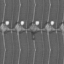dust: (31, 31, 36, 35)
